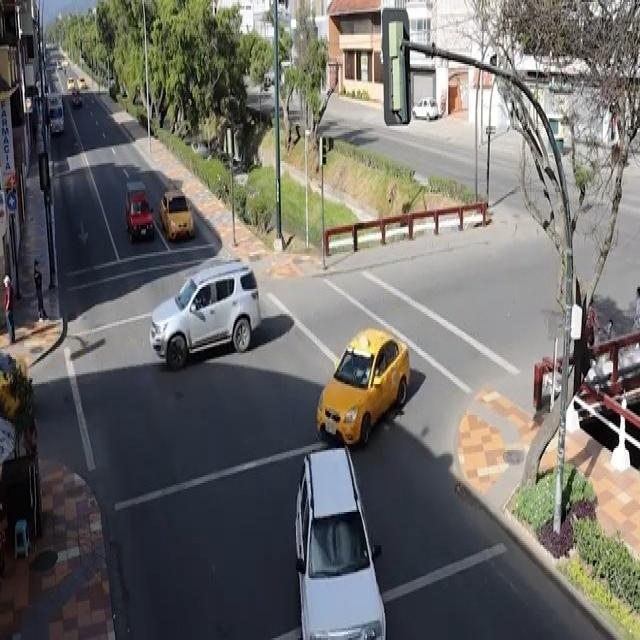CMT: (125, 173, 153, 241)
